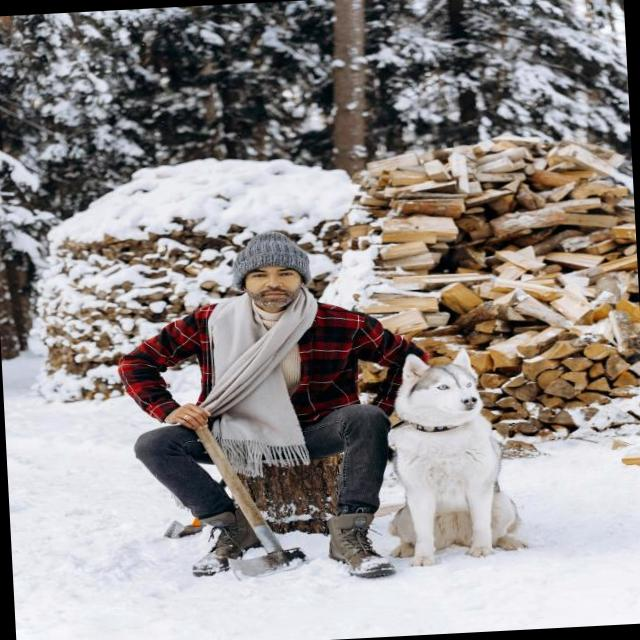Axe: (196, 427, 306, 577)
